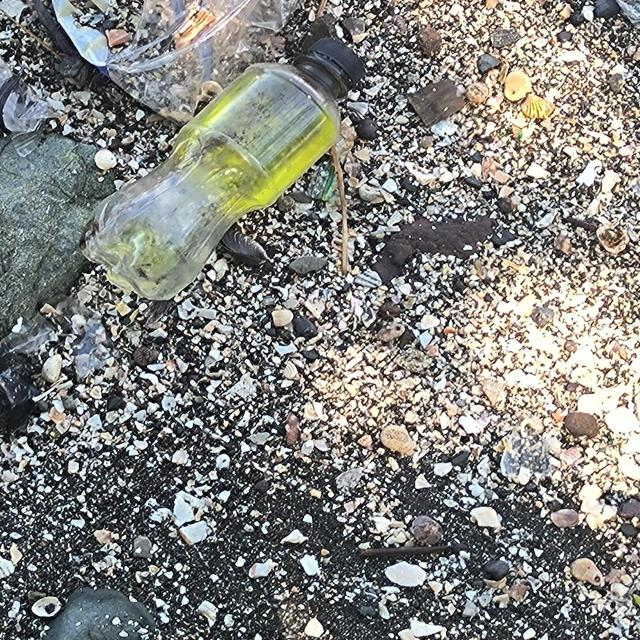plastic_waste: (79, 36, 368, 304)
